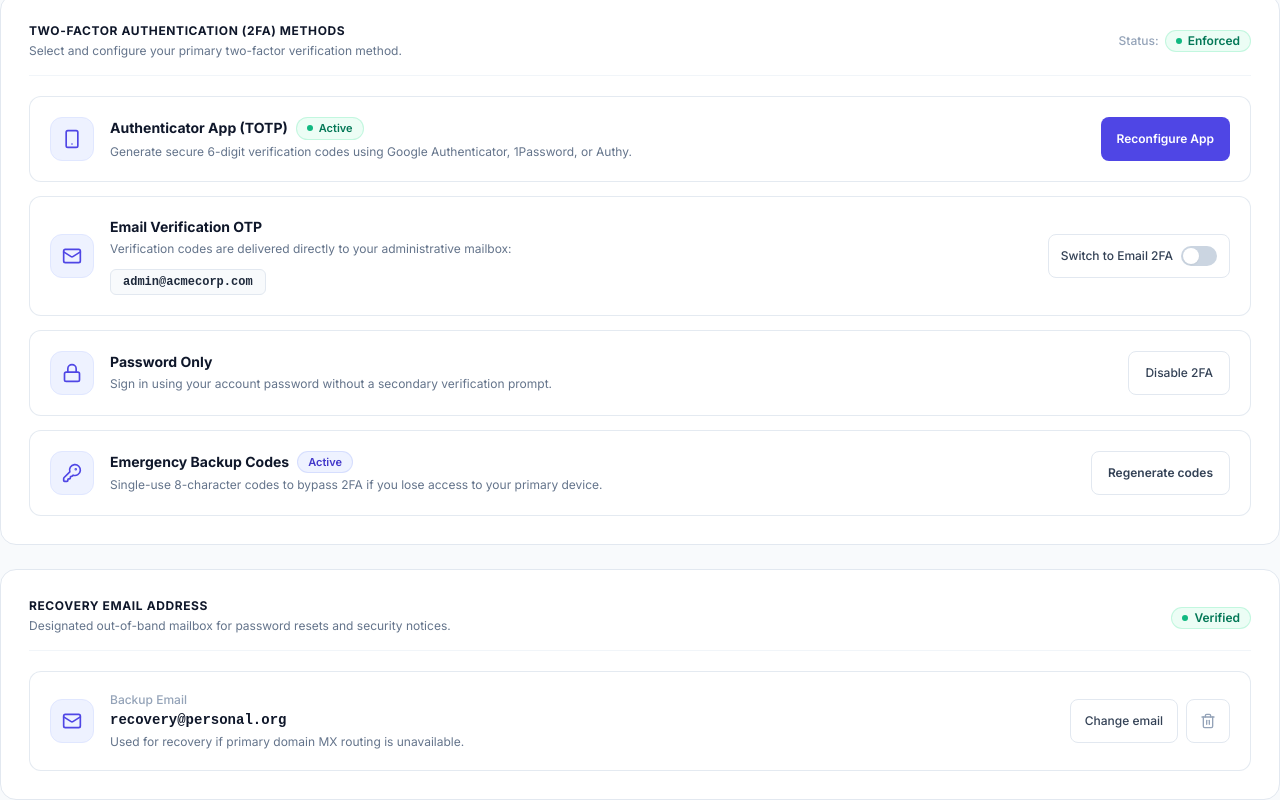
SecuritySettingsView Component › allows removing an existing recovery email with confirmation dialog
(page scrolled)
Click the button named "Remove recovery email": (1208, 720) [1186, 698, 1230, 742]
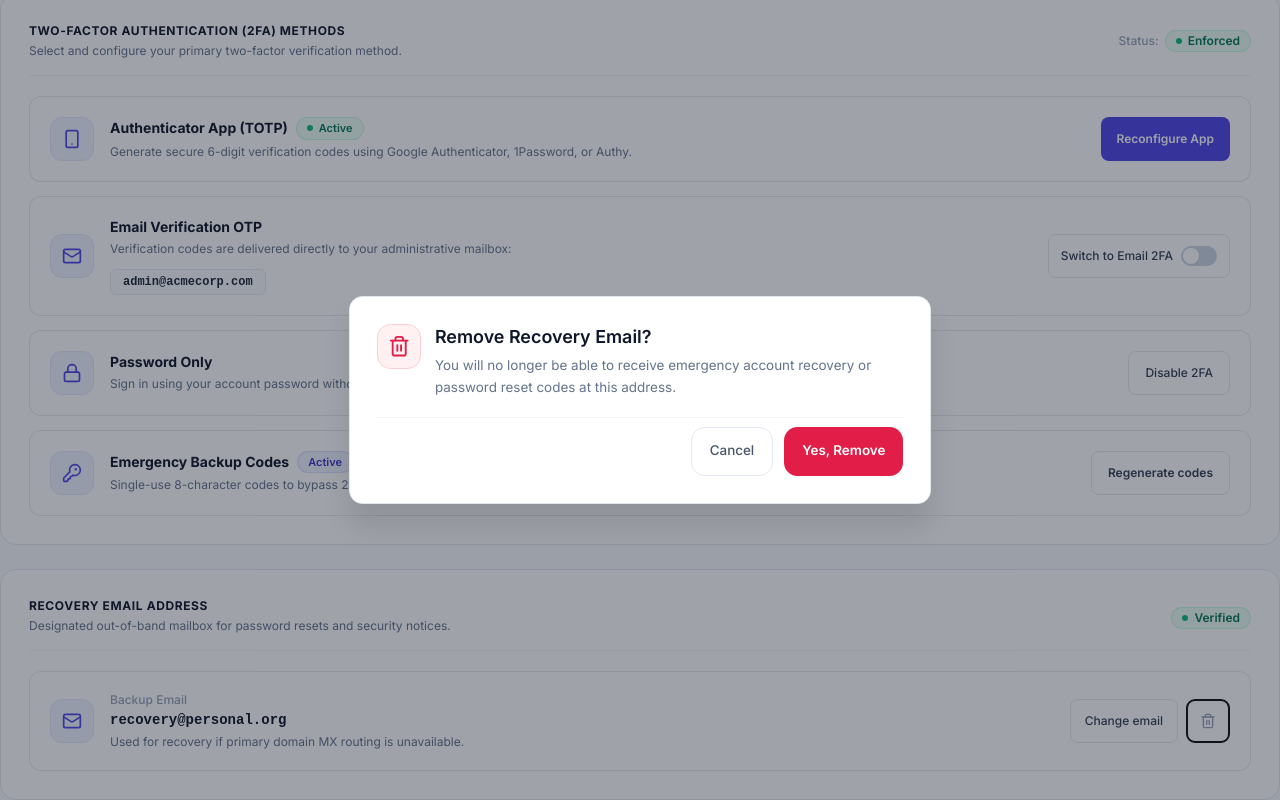
Expected: the heading "Remove Recovery Email?" is shown, [435, 326, 652, 347]
Click the button "Yes, Remove": (844, 451) [784, 427, 903, 476]
(page scrolled)
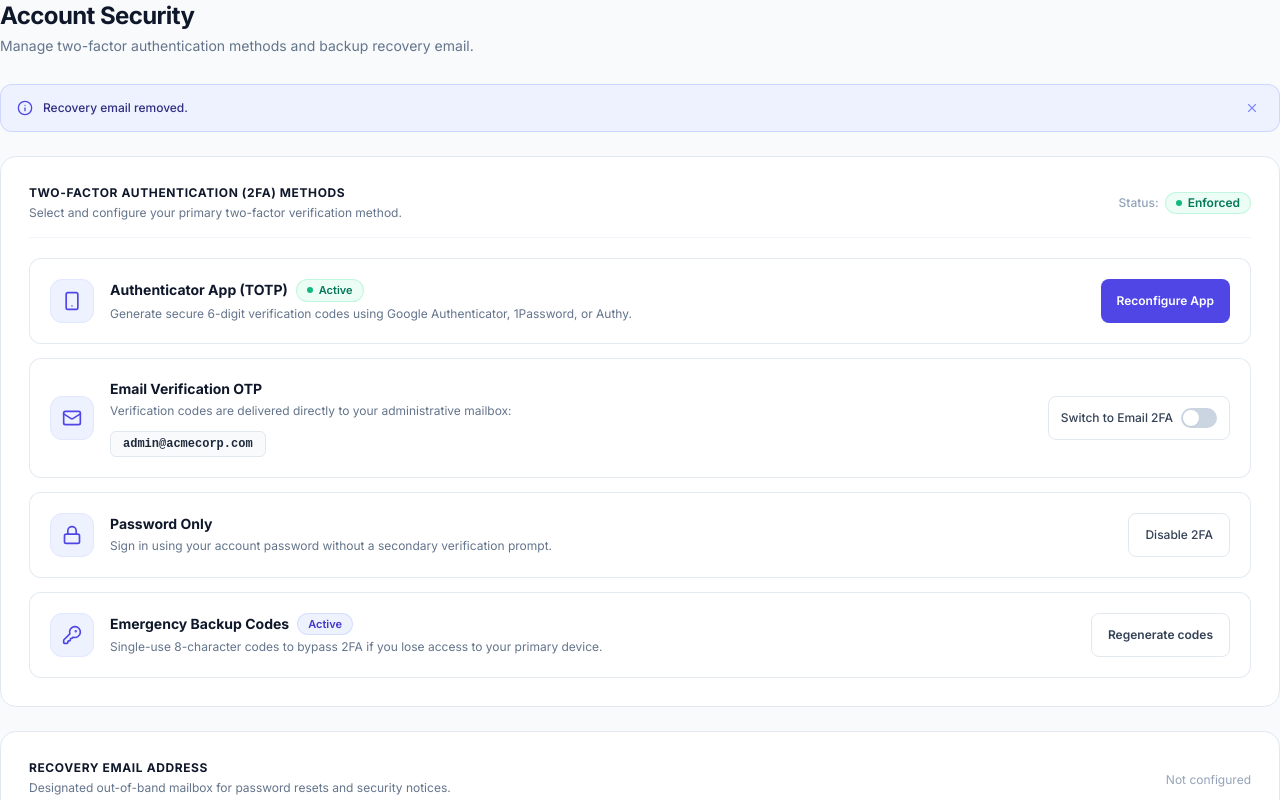
Expected: the text "Recovery email removed." is shown, [43, 100, 188, 116]
